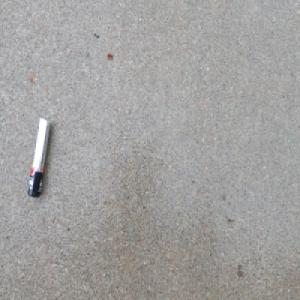Battery: (27, 115, 52, 200)
